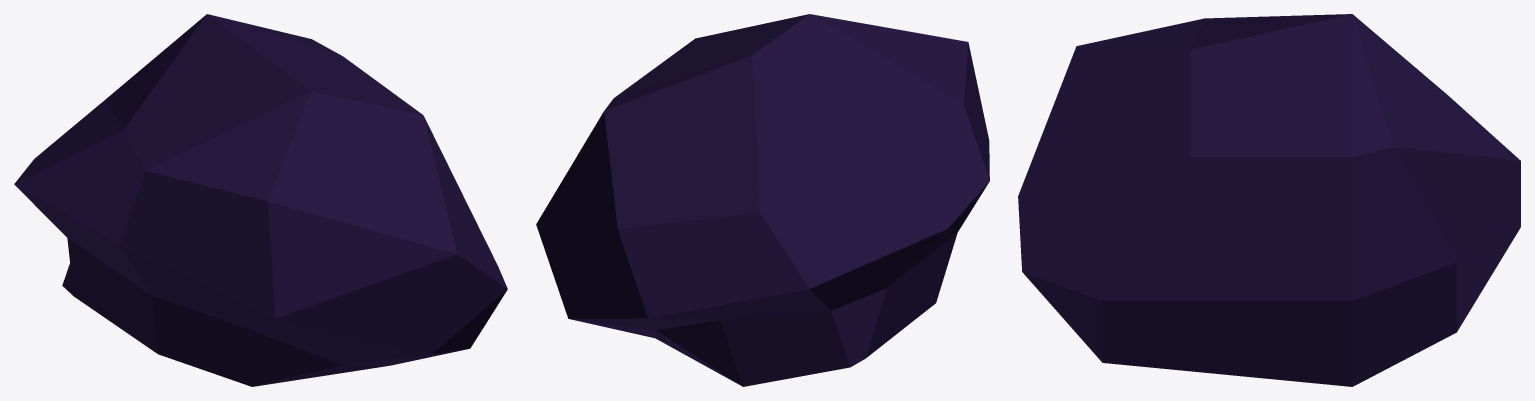
File: stone_002_grp.fbx
3 renders of one model, left to right at view 1: azimuth 30°, elevation 25°; view 2: azimuth 150°, elevation 25°; view 3: azimuth 270°, elevation 25°, orthographic.
Parts seen in each view (by area): view 1: stone_002_grp; view 2: stone_002_grp; view 3: stone_002_grp.
Part boxes in pixels (x1=…): stone_002_grp: x1=14, y1=14, x2=507, y2=386; stone_002_grp: x1=536, y1=14, x2=989, y2=386; stone_002_grp: x1=1018, y1=14, x2=1520, y2=386.
Size of the model in its own units: 125 by 100 by 150.
